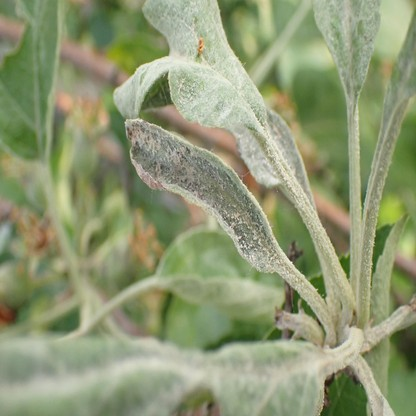frogeye: (197, 37, 204, 52)
powder: (1, 338, 322, 416), (125, 119, 279, 274), (142, 1, 266, 128), (312, 0, 383, 101), (264, 107, 311, 199), (114, 54, 171, 121), (231, 125, 277, 186), (383, 45, 416, 116), (203, 242, 236, 277)
